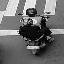motor: (19, 7, 49, 54)
